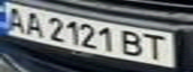1: (60, 18, 81, 47), (97, 25, 118, 53)
2: (42, 15, 66, 44), (78, 21, 100, 51)
A: (0, 4, 30, 33), (18, 9, 48, 38)
B: (118, 28, 148, 58)
T: (139, 32, 172, 61)
